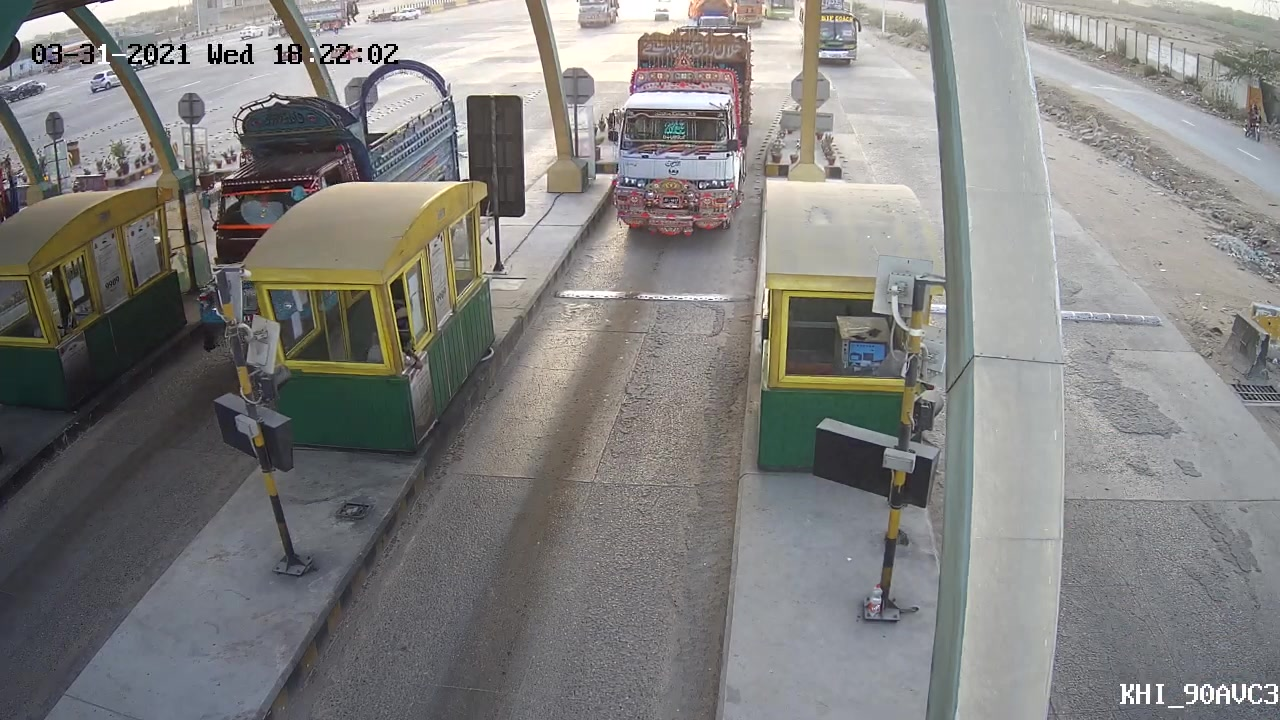F5: (589, 34, 758, 246)
